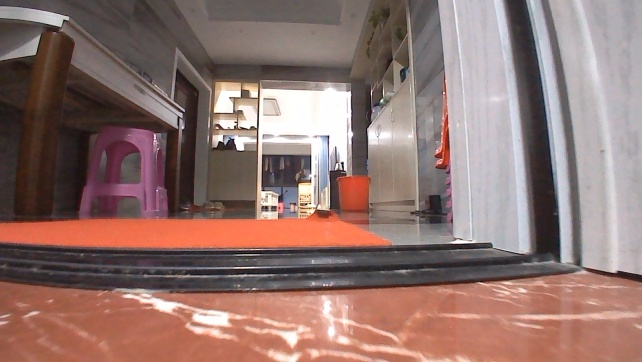blanket: (0, 205, 395, 248)
